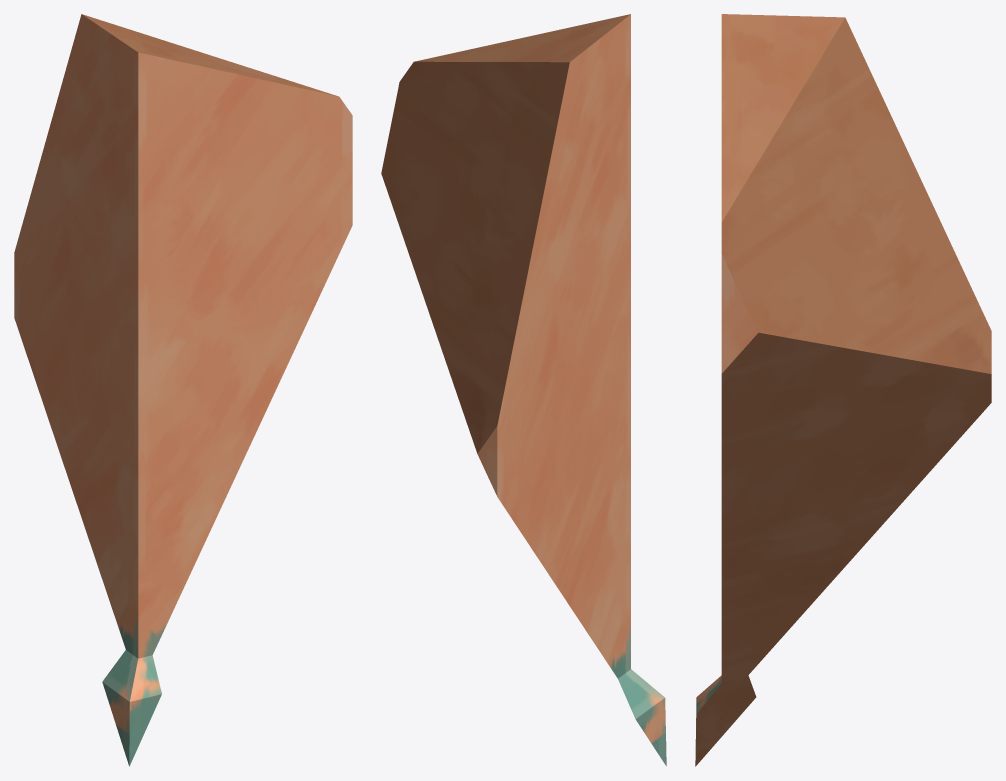
Rendered from corner_s00.fbx.
3 renders of one model, left to right at view 1: azimuth 30°, elevation 25°; view 2: azimuth 150°, elevation 25°; view 3: azimuth 270°, elevation 25°, orthographic. The views are drawn at different scales.
Parts seen in each view (by area): view 1: corner_s00; view 2: corner_s00; view 3: corner_s00.
Boxes of the visible parts, <box> form: corner_s00: <box>14,14,352,766</box>; corner_s00: <box>381,14,666,766</box>; corner_s00: <box>695,14,991,766</box>.
Bounding box in the file's own units: 1.65 × 4.69 × 1.65.
